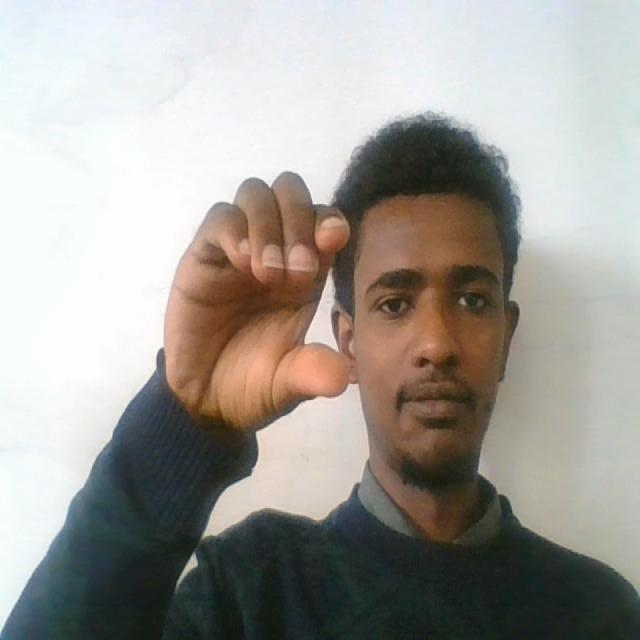no: (148, 157, 380, 435)
